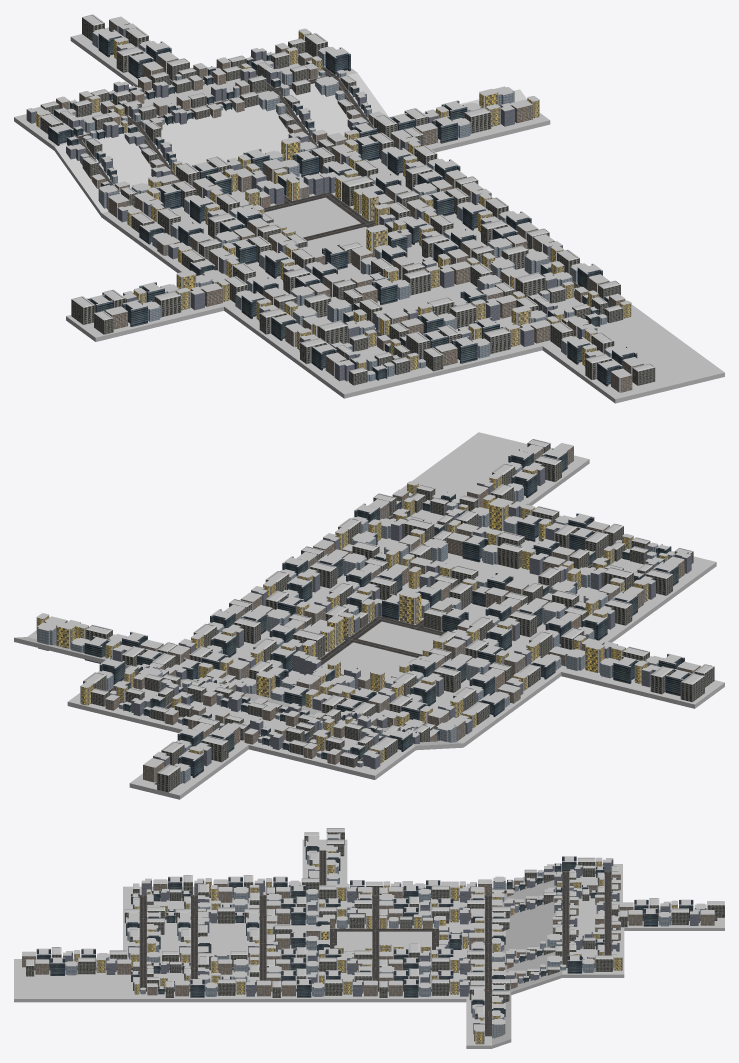
The model's file is city_map.fbx.
3 views of the same model, one above another, from view 1: azimuth 30°, elevation 25°; view 2: azimuth 150°, elevation 25°; view 3: azimuth 270°, elevation 25° (orthographic). The views are drawn at different scales.
Visible parts, largest first — view 1: Gras, Street; view 2: Gras, Street, Building1.049, Building6.093; view 3: Gras, Street.
Boxes of the visible parts, bbox=[...] form: Gras: bbox=[14, 27, 724, 403]; Street: bbox=[73, 66, 608, 337]; Gras: bbox=[14, 432, 724, 799]; Street: bbox=[108, 507, 603, 784]; Building1.049: bbox=[399, 590, 421, 624]; Building6.093: bbox=[680, 673, 704, 702]; Gras: bbox=[14, 839, 724, 1048]; Street: bbox=[34, 850, 717, 1036].
Size of the model in its own units: 138 by 12.6 by 202.
